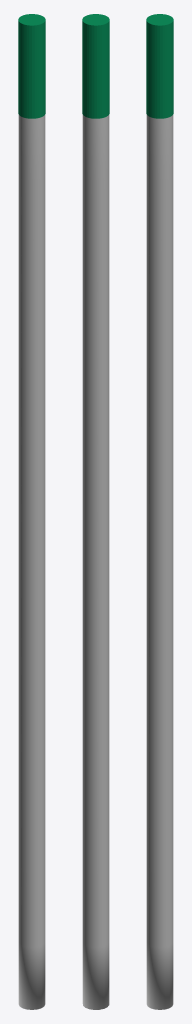
The model's file is Updated008B54.glb.
The picture shows the model from 3 angles, left to right: view 1: azimuth 90°, elevation 25°; view 2: azimuth 150°, elevation 25°; view 3: azimuth 270°, elevation 25°; orthographic projection.
Visible parts, largest first — view 1: Long_Electrode_Body, Long_Electrode_Tip; view 2: Long_Electrode_Body, Long_Electrode_Tip; view 3: Long_Electrode_Body, Long_Electrode_Tip.
Boxes of the visible parts, <box> form: Long_Electrode_Body: <box>18,115,45,1009</box>; Long_Electrode_Tip: <box>18,14,45,118</box>; Long_Electrode_Body: <box>82,115,109,1009</box>; Long_Electrode_Tip: <box>82,14,109,118</box>; Long_Electrode_Body: <box>146,115,173,1009</box>; Long_Electrode_Tip: <box>146,14,173,118</box>.
Size of the model in its own units: 0.4 by 15.84 by 0.4.
